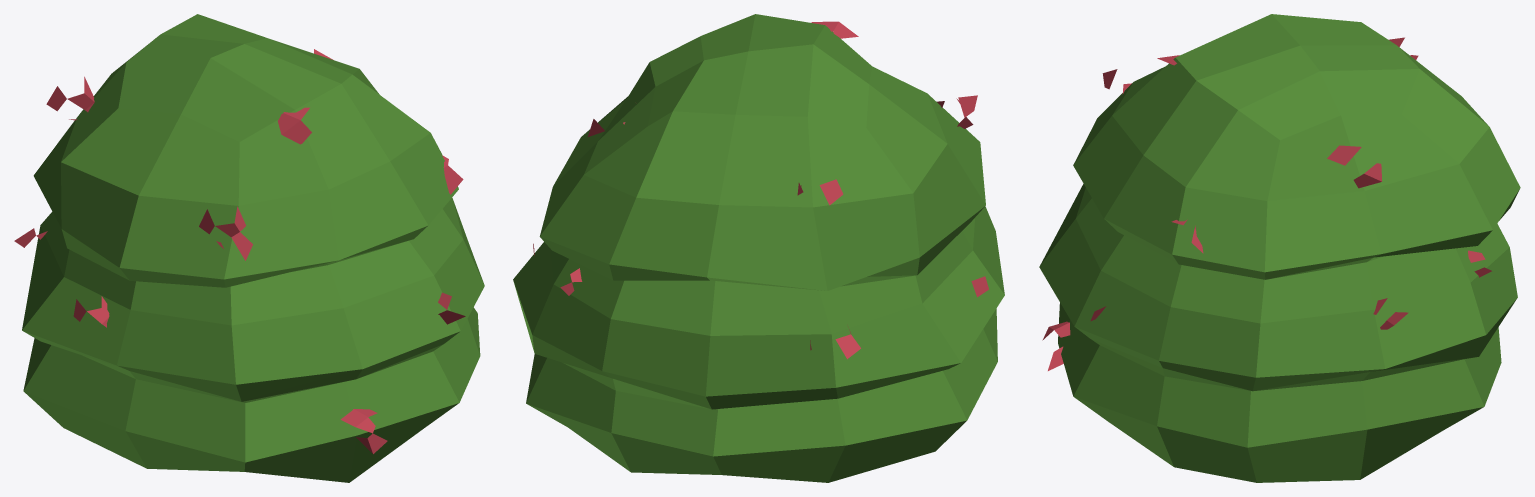
The model's file is bush-0.glb.
3 views of the same model, side by side, from view 1: azimuth 30°, elevation 25°; view 2: azimuth 150°, elevation 25°; view 3: azimuth 270°, elevation 25° (orthographic). The views are drawn at different scales.
Parts seen in each view (by area): view 1: bush-0; view 2: bush-0; view 3: bush-0.
Part boxes in pixels (x1,y1,x2,y2): bush-0: (14,14,484,482); bush-0: (513,14,1004,482); bush-0: (1039,14,1520,482).
Size of the model in its own units: 1.5 by 1.27 by 1.5.
